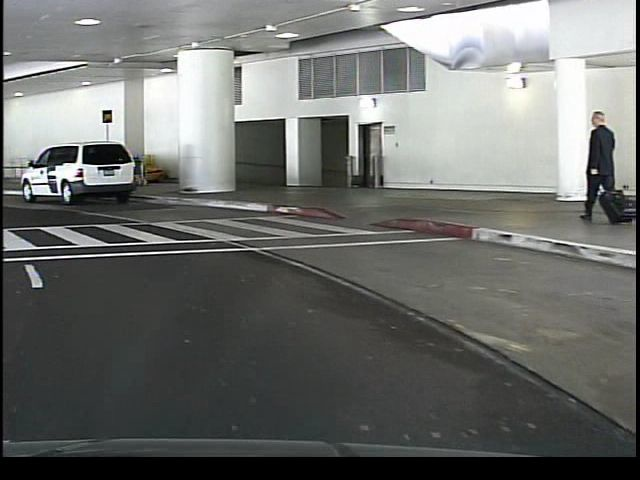person: (576, 104, 613, 226)
